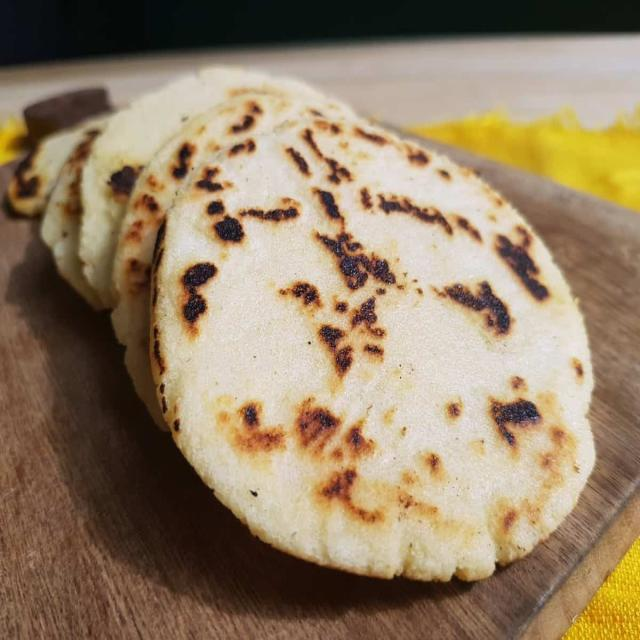arepa: (158, 105, 598, 584)
